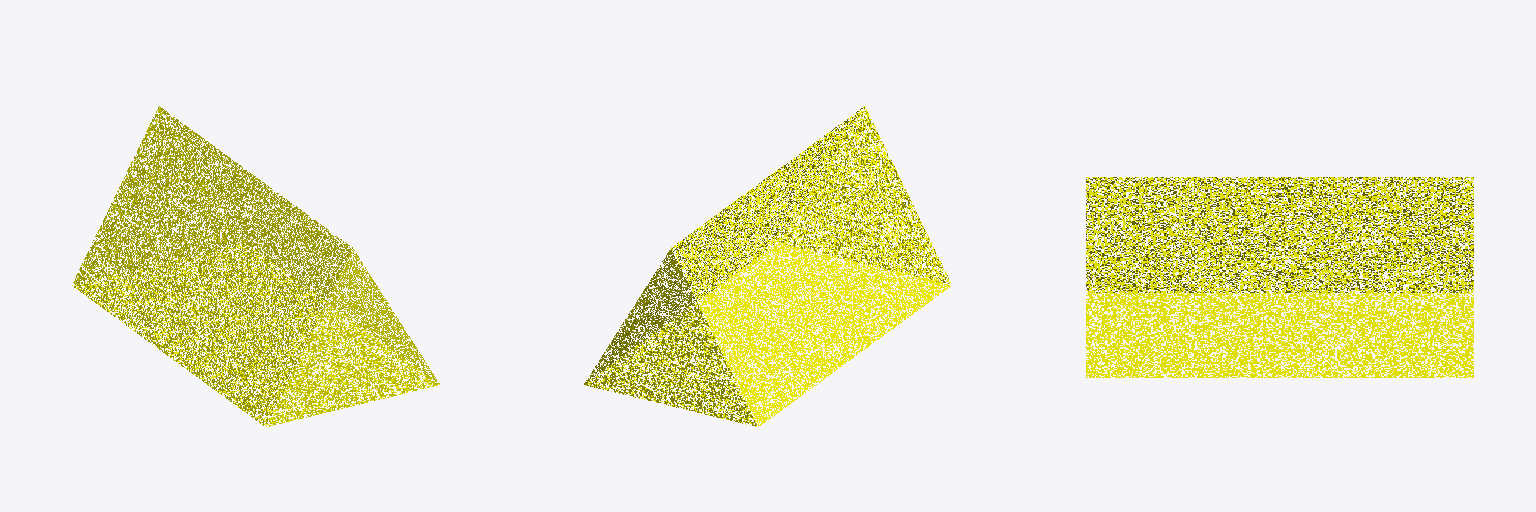
The picture shows the model from 3 angles: view 1: azimuth 30°, elevation 25°; view 2: azimuth 150°, elevation 25°; view 3: azimuth 270°, elevation 25°; orthographic projection.
Parts seen in each view (by area): view 1: FireUnlocked_Circle; view 2: FireUnlocked_Circle; view 3: FireUnlocked_Circle.
Boxes of the visible parts, x1=… form: FireUnlocked_Circle: x1=72, y1=106, x2=439, y2=426; FireUnlocked_Circle: x1=584, y1=106, x2=950, y2=426; FireUnlocked_Circle: x1=1086, y1=177, x2=1473, y2=377.
Bounding box in the file's own units: 0.2078 × 0.18 × 0.4.
Materials: 1 (1 with a texture image).